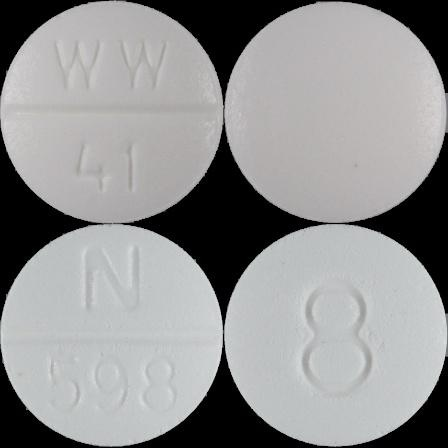53808-0355: (0, 0, 224, 224)
